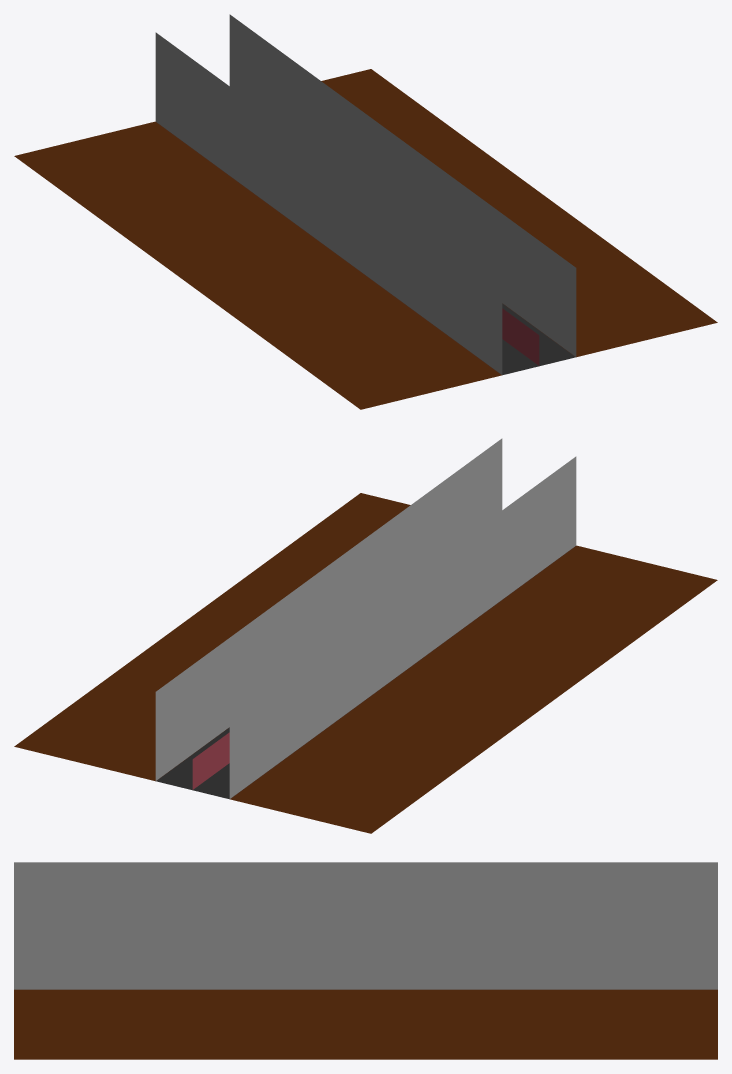
Rendered from Track_A.fbx.
The picture shows the model from 3 angles, top to bottom: view 1: azimuth 30°, elevation 25°; view 2: azimuth 150°, elevation 25°; view 3: azimuth 270°, elevation 25°; orthographic projection.
Parts seen in each view (by area): view 1: Sand_A, InvisibleWall_A, Road_A, AI_A; view 2: Sand_A, InvisibleWall_A, Road_A, AI_A; view 3: InvisibleWall_A, Sand_A.
Boxes of the visible parts, bbox=[...] form: Sand_A: bbox=[14, 69, 717, 409]; InvisibleWall_A: bbox=[155, 14, 576, 374]; Road_A: bbox=[502, 303, 575, 375]; AI_A: bbox=[502, 308, 539, 365]; Sand_A: bbox=[14, 493, 717, 833]; InvisibleWall_A: bbox=[155, 438, 576, 798]; Road_A: bbox=[156, 727, 229, 799]; AI_A: bbox=[192, 732, 229, 789]; InvisibleWall_A: bbox=[14, 862, 717, 989]; Sand_A: bbox=[14, 989, 717, 1059].
Bounding box in the file's own units: 84.51 × 20.19 × 142.
